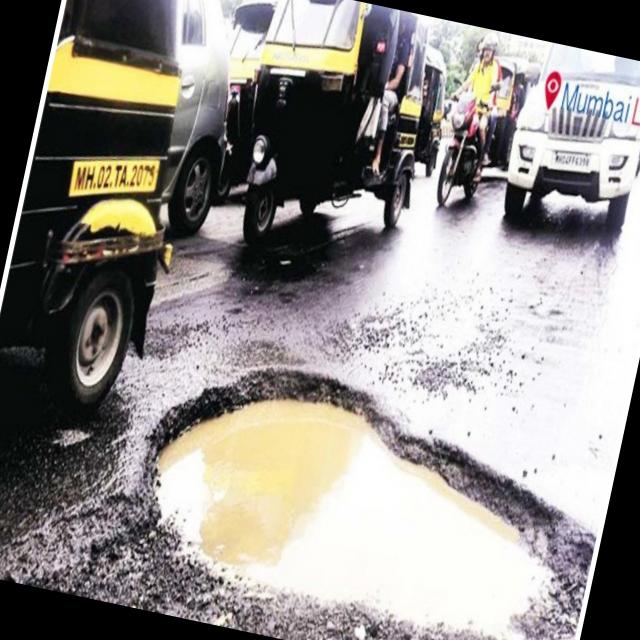Potholes: (94, 295, 631, 640)
